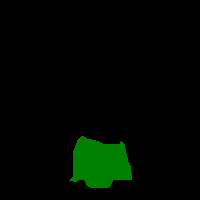mutande: (69, 135, 132, 188)
